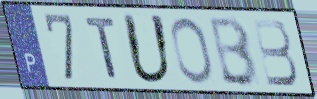7: (42, 12, 75, 82)
B: (208, 15, 261, 89), (250, 17, 301, 88)
O: (168, 15, 216, 86)
T: (83, 16, 121, 81)
U: (119, 12, 175, 87)
